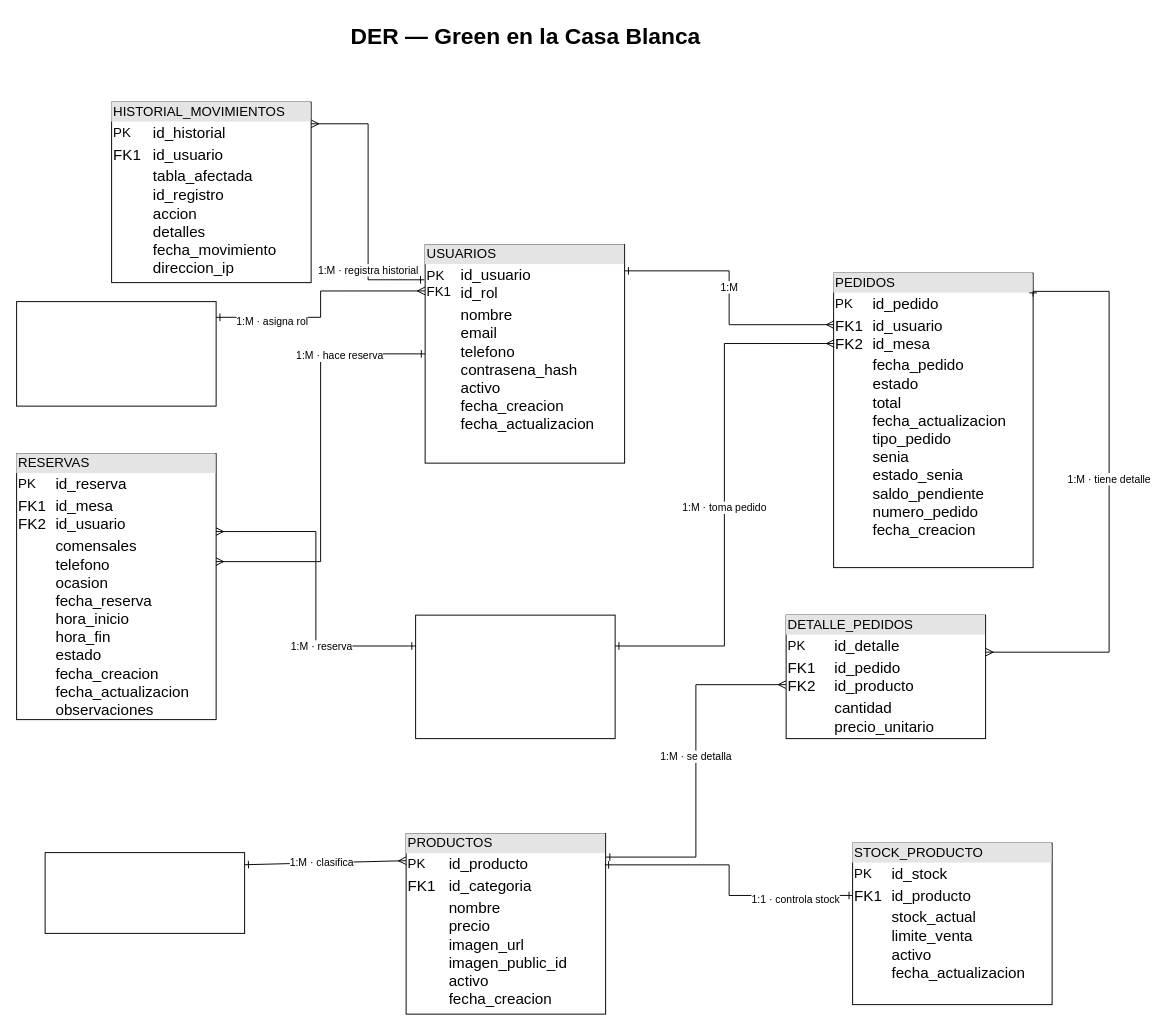
Some shapes in this 1167 by 1031 pixel diagram are drawn without their labels. Each missing label, with the centre of its shape:
CATEGORIAS PK id_categoria nombre activo: the point at 144,892
MESAS PK id_mesa numero_mesa capacidad activo fecha_creacion: the point at 515,676
ROLES PK id_rol nombre descripcion fecha_creacion: the point at 116,353
